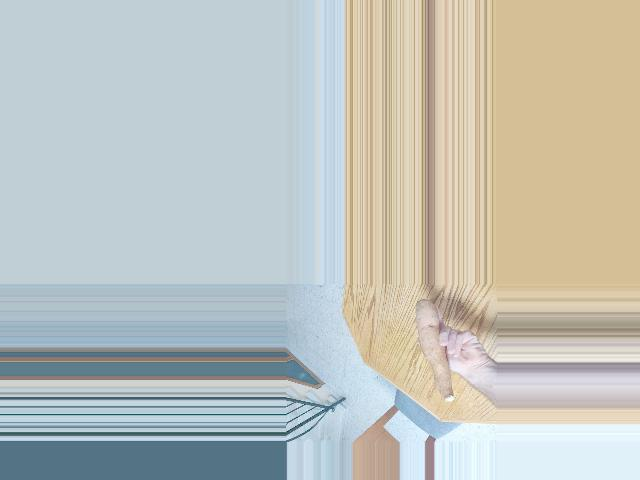sweet_potato: (411, 300, 458, 402)
